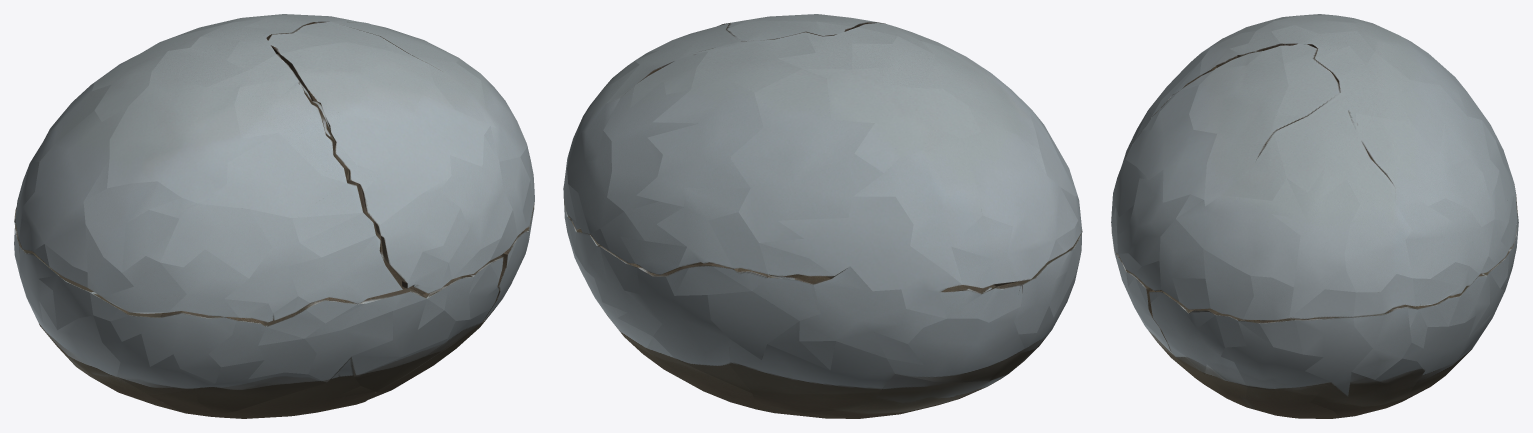
Rendered from shore_rock.glb.
The picture shows the model from 3 angles, left to right: view 1: azimuth 30°, elevation 25°; view 2: azimuth 150°, elevation 25°; view 3: azimuth 270°, elevation 25°; orthographic projection. The views are drawn at different scales.
Size of the model in its own units: 1.9 by 1.4 by 1.53.
1 material, 1 textured.
